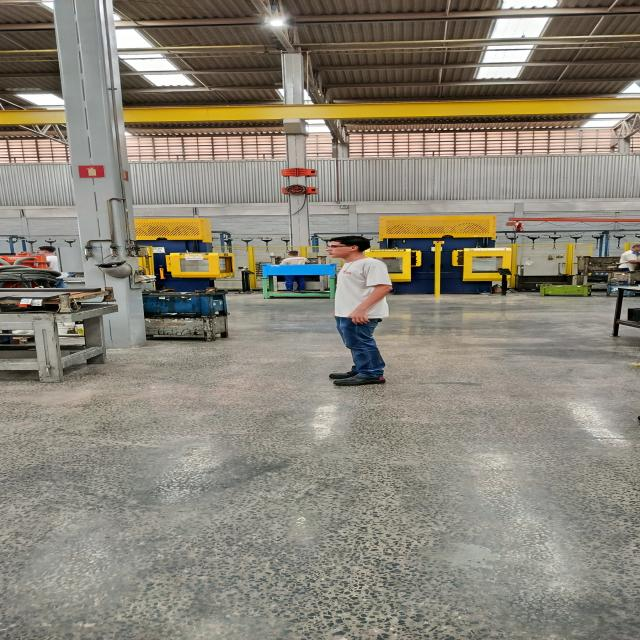oculos-epi: (327, 245, 355, 251), (38, 250, 46, 252)
sem_oculos: (284, 250, 301, 258)
